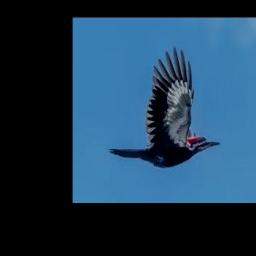Woodpecker: (108, 46, 221, 168)
